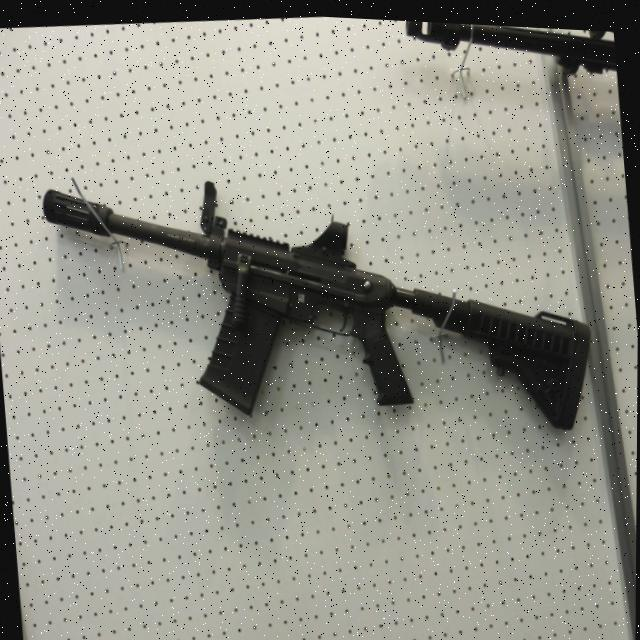firearm: (37, 137, 599, 471), (398, 16, 617, 93)
